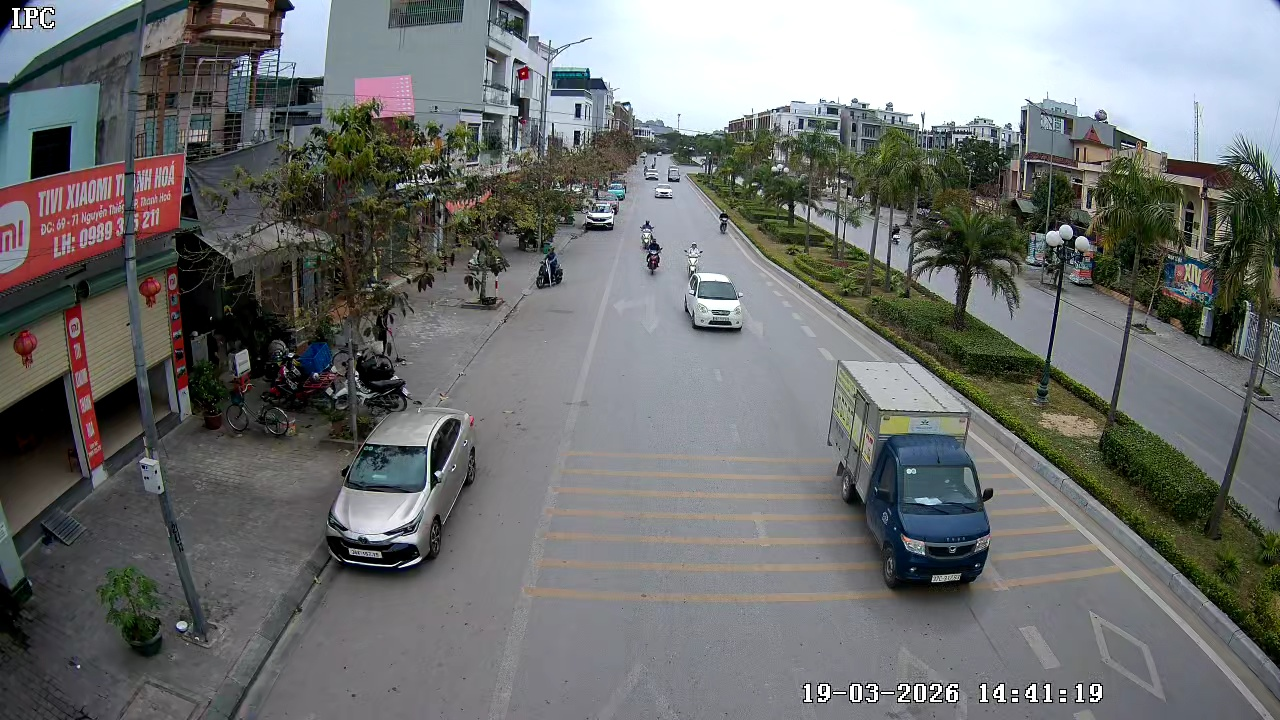car: (325, 406, 478, 571), (683, 270, 746, 332), (583, 199, 618, 230), (655, 181, 677, 201)
motorbike: (536, 244, 564, 289), (479, 266, 501, 309), (642, 231, 663, 275), (684, 240, 704, 281), (716, 209, 733, 235)
truck: (825, 357, 990, 590)
